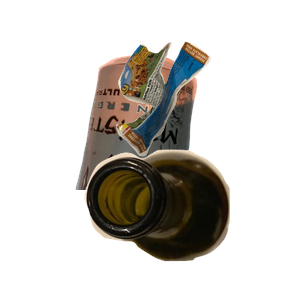glass: (82, 147, 300, 300)
metal: (73, 52, 263, 232)
plastic: (110, 164, 300, 300)
trash: (114, 39, 300, 188)
